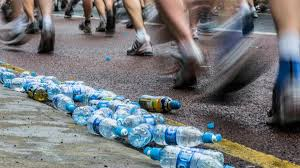Botella: (0, 73, 212, 168)
